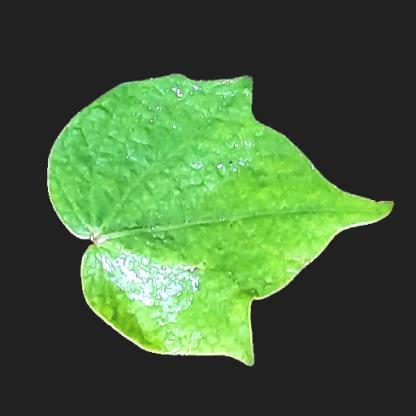healthy: (116, 116, 228, 330), (228, 136, 310, 270), (53, 146, 116, 229)
